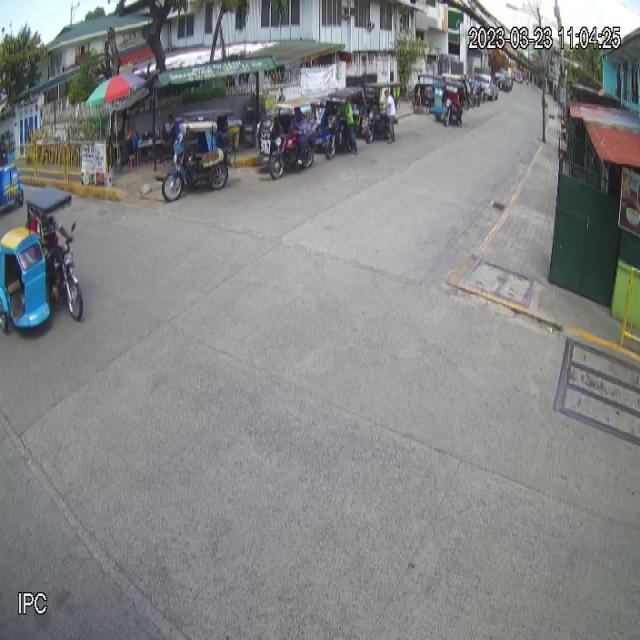Tricycle: (0, 186, 85, 333), (161, 106, 237, 201), (257, 94, 315, 178)
